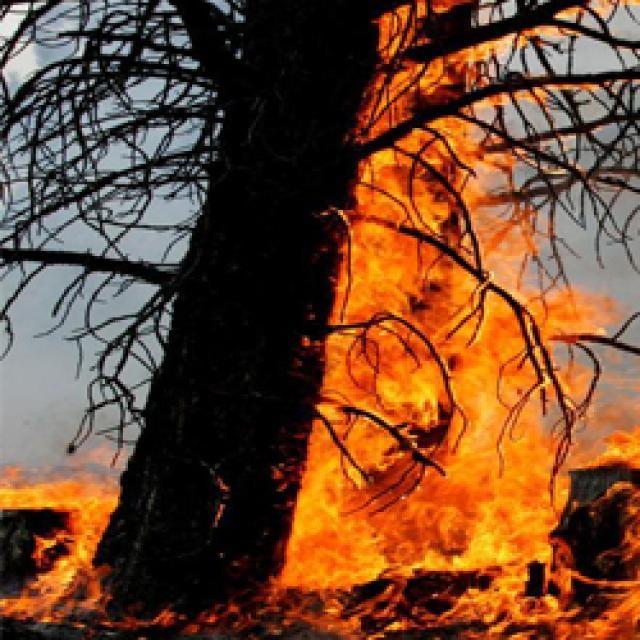Fire: (353, 0, 640, 640), (271, 207, 351, 640), (0, 454, 115, 640), (116, 595, 271, 640)
Smoke: (0, 4, 206, 259), (0, 264, 176, 464), (536, 192, 640, 289)
